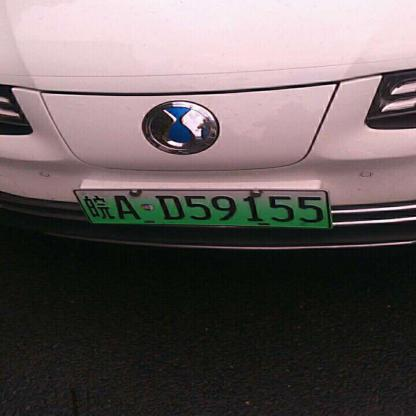lp: (74, 190, 328, 226)
